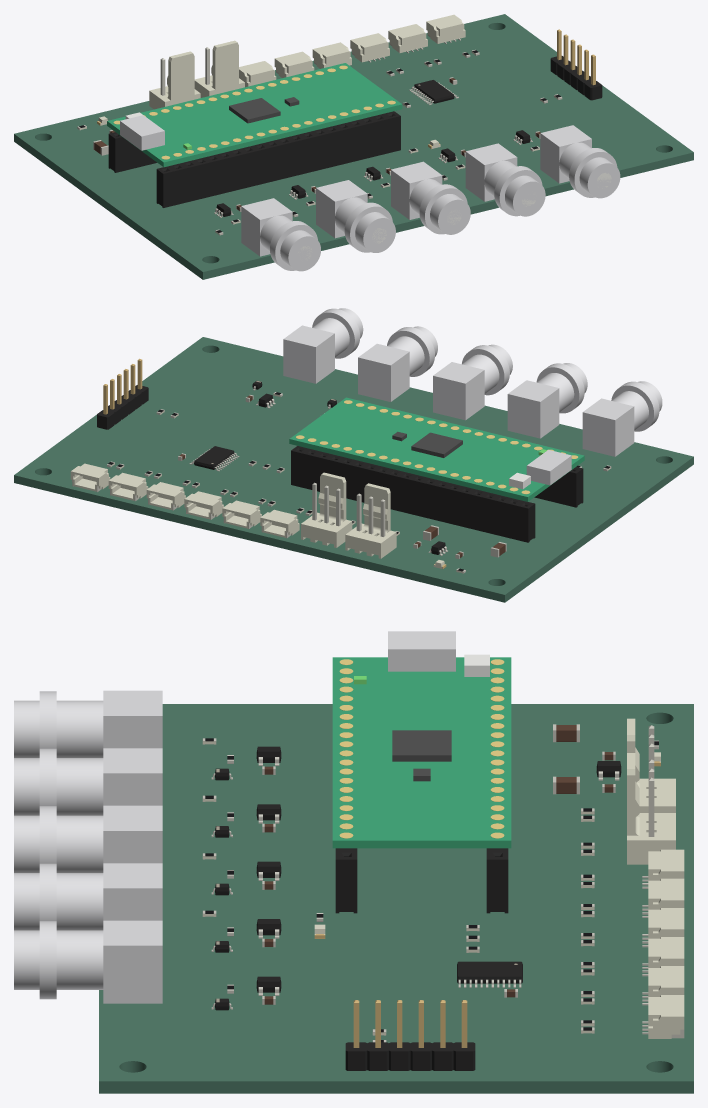
File: scheda_acquisizione.glb
The picture shows the model from 3 angles, top to bottom: view 1: azimuth 30°, elevation 25°; view 2: azimuth 150°, elevation 25°; view 3: azimuth 270°, elevation 25°; orthographic projection. The views are drawn at different scales.
Parts seen in each view (by area): view 1: =>[0:1:1:76], =>[0:1:1:28], =>[0:1:1:26] (×2), =>[0:1:1:18] (×5), =>[0:1:1:17] (×5), =>[0:1:1:7] (×6), =>[0:1:1:19] (×5), =>[0:1:1:5] (×2), =>[0:1:1:24], =>[0:1:1:31], =>[0:1:1:29], =>[0:1:1:75]; view 2: =>[0:1:1:76], =>[0:1:1:17] (×5), =>[0:1:1:28], =>[0:1:1:26] (×2), =>[0:1:1:7] (×6), =>[0:1:1:5] (×2), =>[0:1:1:18] (×5), =>[0:1:1:19] (×5), =>[0:1:1:24], =>[0:1:1:31], =>[0:1:1:29], =>[0:1:1:75]; view 3: =>[0:1:1:76], =>[0:1:1:28], =>[0:1:1:18] (×5), =>[0:1:1:17] (×5), =>[0:1:1:7] (×6), =>[0:1:1:19] (×5), =>[0:1:1:24], =>[0:1:1:5] (×2), =>[0:1:1:26] (×2), =>[0:1:1:31], =>[0:1:1:29], =>[0:1:1:75].
Boxes of the visible parts, bbox=[...] form: =>[0:1:1:76]: bbox=[14, 14, 693, 279]; =>[0:1:1:28]: bbox=[107, 63, 402, 167]; =>[0:1:1:26] (×2): bbox=[108, 111, 400, 207]; =>[0:1:1:18] (×5): bbox=[260, 142, 620, 271]; =>[0:1:1:17] (×5): bbox=[241, 125, 591, 256]; =>[0:1:1:7] (×6): bbox=[239, 14, 465, 87]; =>[0:1:1:19] (×5): bbox=[270, 148, 617, 270]; =>[0:1:1:5] (×2): bbox=[149, 40, 244, 109]; =>[0:1:1:24]: bbox=[550, 29, 602, 100]; =>[0:1:1:31]: bbox=[120, 115, 164, 150]; =>[0:1:1:29]: bbox=[229, 98, 280, 123]; =>[0:1:1:75]: bbox=[409, 80, 458, 105]; =>[0:1:1:76]: bbox=[14, 337, 693, 602]; =>[0:1:1:17] (×5): bbox=[283, 325, 634, 456]; =>[0:1:1:28]: bbox=[289, 397, 584, 501]; =>[0:1:1:26] (×2): bbox=[291, 446, 583, 542]; =>[0:1:1:7] (×6): bbox=[70, 463, 299, 538]; =>[0:1:1:5] (×2): bbox=[301, 472, 396, 558]; =>[0:1:1:18] (×5): bbox=[312, 308, 662, 430]; =>[0:1:1:19] (×5): bbox=[312, 308, 659, 431]; =>[0:1:1:24]: bbox=[97, 358, 148, 429]; =>[0:1:1:31]: bbox=[526, 450, 571, 485]; =>[0:1:1:29]: bbox=[411, 432, 462, 457]; =>[0:1:1:75]: bbox=[189, 446, 239, 471]; =>[0:1:1:76]: bbox=[99, 704, 693, 1093]; =>[0:1:1:28]: bbox=[332, 657, 511, 848]; =>[0:1:1:18] (×5): bbox=[14, 700, 103, 989]; =>[0:1:1:17] (×5): bbox=[103, 690, 162, 1003]; =>[0:1:1:7] (×6): bbox=[642, 849, 684, 1038]; =>[0:1:1:19] (×5): bbox=[39, 691, 56, 999]; =>[0:1:1:24]: bbox=[345, 1000, 475, 1070]; =>[0:1:1:5] (×2): bbox=[627, 718, 675, 864]; =>[0:1:1:26] (×2): bbox=[335, 848, 508, 913]; =>[0:1:1:31]: bbox=[388, 631, 455, 671]; =>[0:1:1:29]: bbox=[392, 730, 451, 761]; =>[0:1:1:75]: bbox=[457, 961, 522, 987].
Size of the model in its own units: 0.105 by 0.016 by 0.08.
